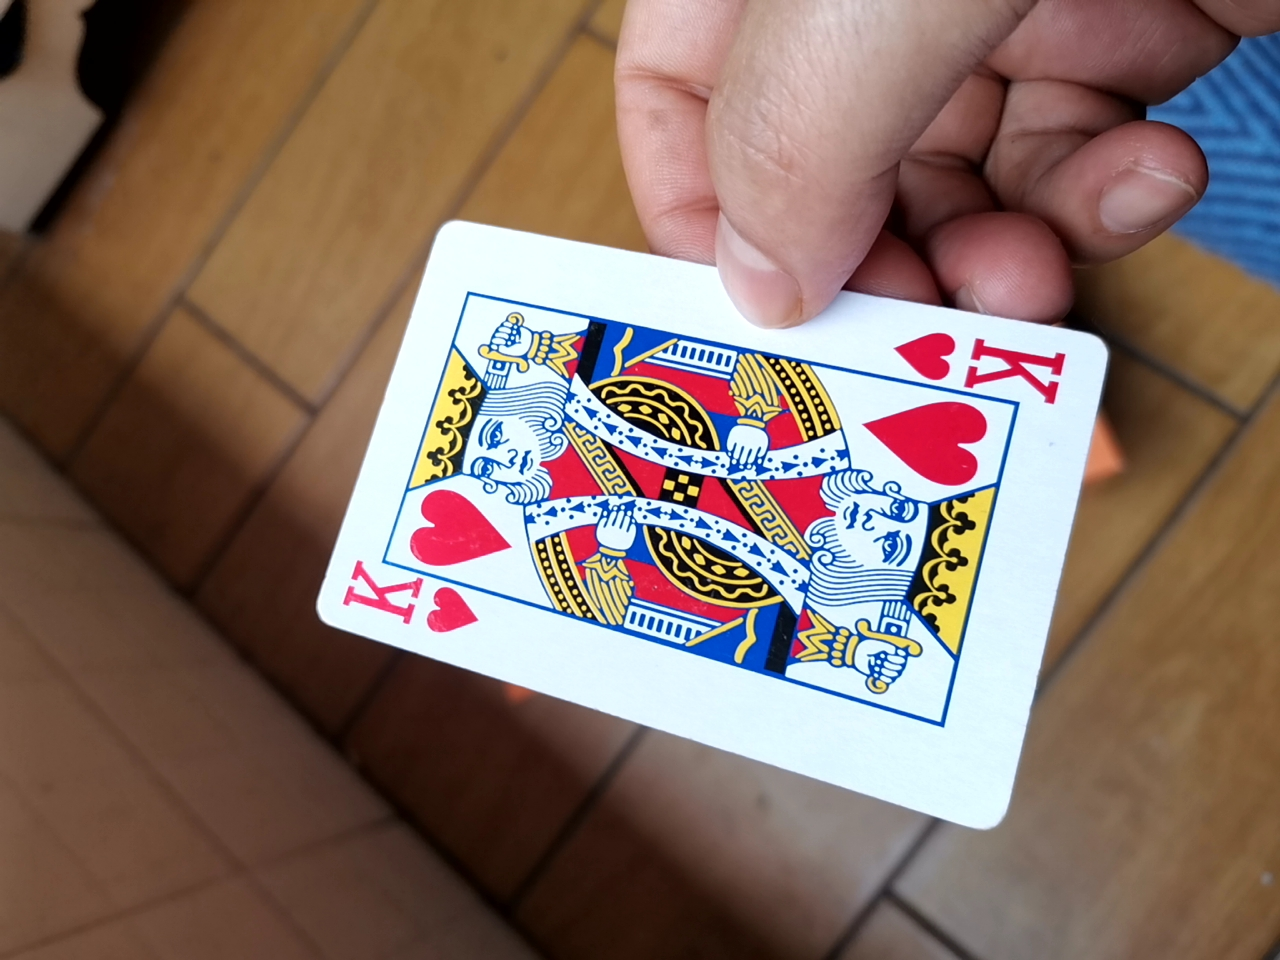hx k: (296, 217, 1112, 836)
